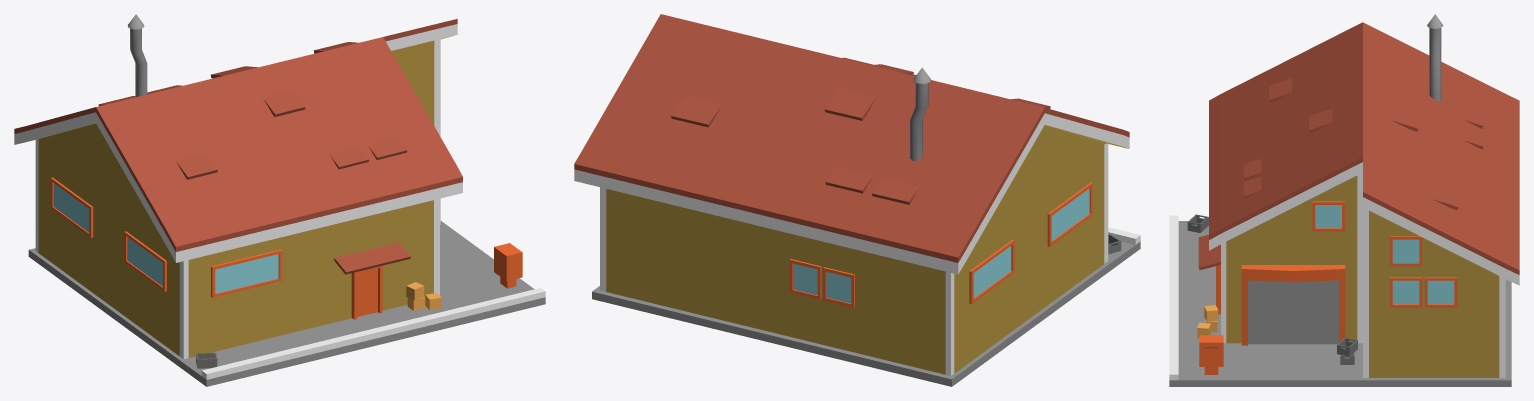
File: new_house2.fbx
The picture shows the model from 3 angles, left to right: view 1: azimuth 30°, elevation 25°; view 2: azimuth 150°, elevation 25°; view 3: azimuth 270°, elevation 25°; orthographic projection. The views are drawn at different scales.
Visible parts, largest first — view 1: дом2; view 2: дом2; view 3: дом2.
Part boxes in pixels (x1,y1,x2,y2): дом2: (14,14,545,386); дом2: (574,14,1140,386); дом2: (1169,14,1519,386).
Size of the model in its own units: 331 by 223 by 289.
